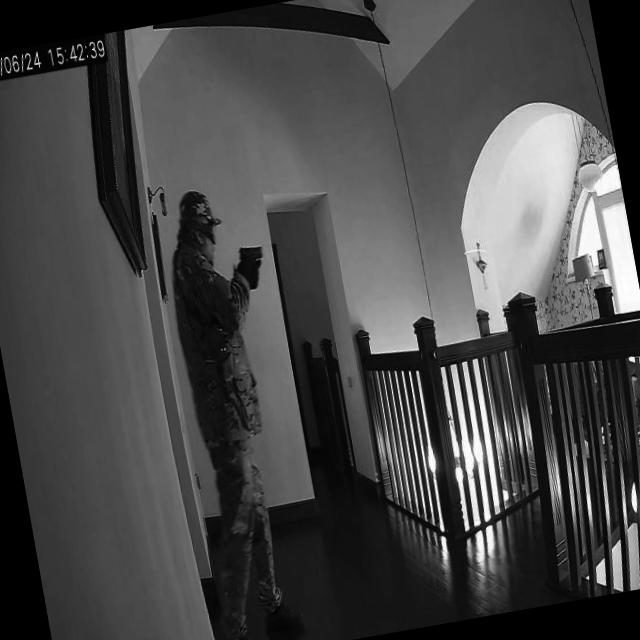gun: (235, 242, 270, 282)
person with a gun: (147, 173, 334, 640)
